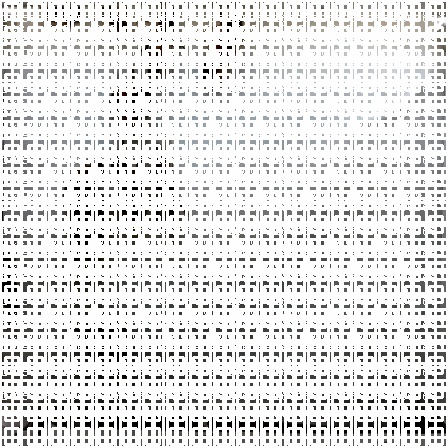bee: (146, 131, 207, 238), (89, 59, 166, 139), (64, 305, 145, 380), (100, 132, 153, 242), (194, 3, 247, 95), (43, 148, 110, 219), (49, 205, 117, 274), (133, 2, 187, 88), (1, 228, 29, 349)
